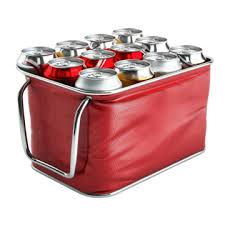can: (15, 27, 208, 91)
